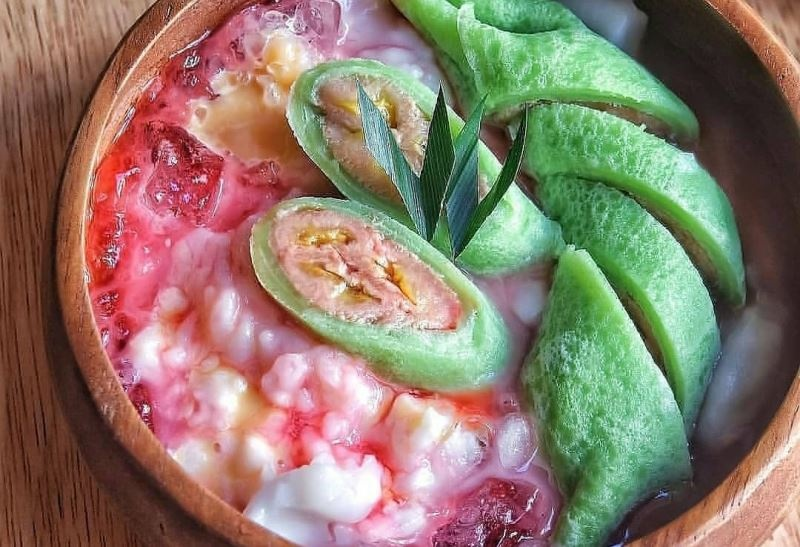pisang_ijo: (226, 194, 492, 380)
